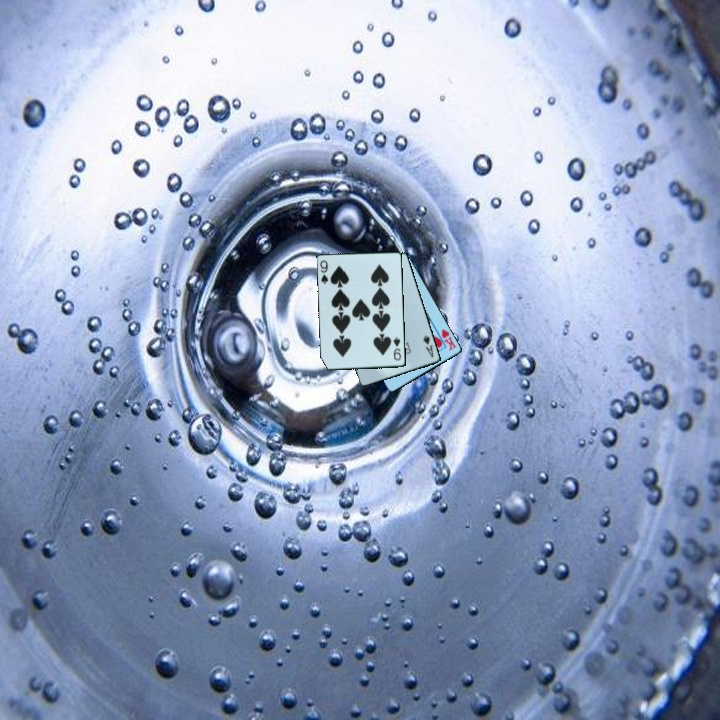9s: (317, 257, 331, 287), (390, 334, 404, 363)
As: (420, 332, 436, 360)
Kh: (438, 325, 459, 353)
